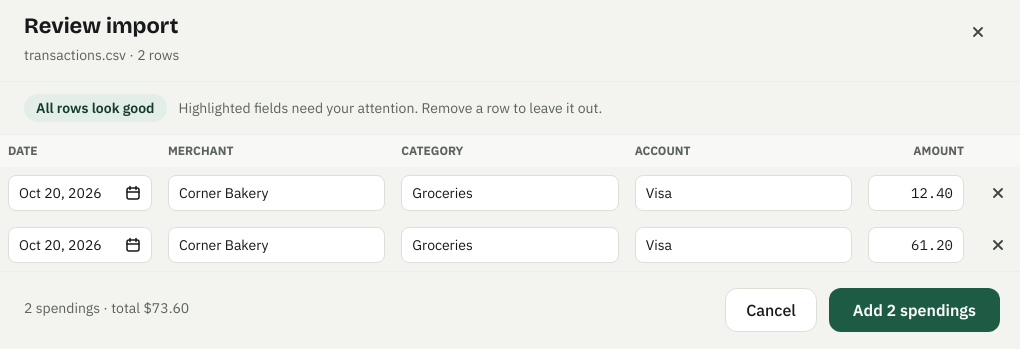
Test: ReviewStage and server refusals › highlights the fields the server refused and keeps every row
The width and height of the screenshot is (1020, 349).
Click the button "Add 2 spendings" at point(914, 310), box left=829, top=288, right=1000, bottom=332
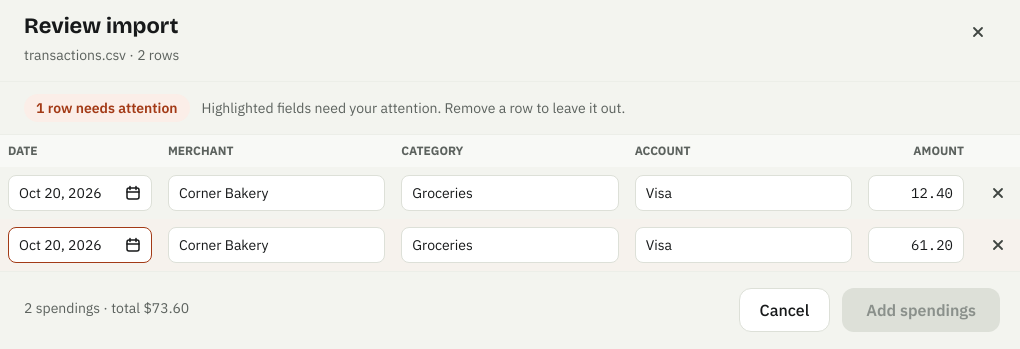
Expected: the text "1 row needs attention" is shown, left=24, top=94, right=190, bottom=122
Expected: the button "Add spendings" is disabled, left=842, top=288, right=1000, bottom=332
